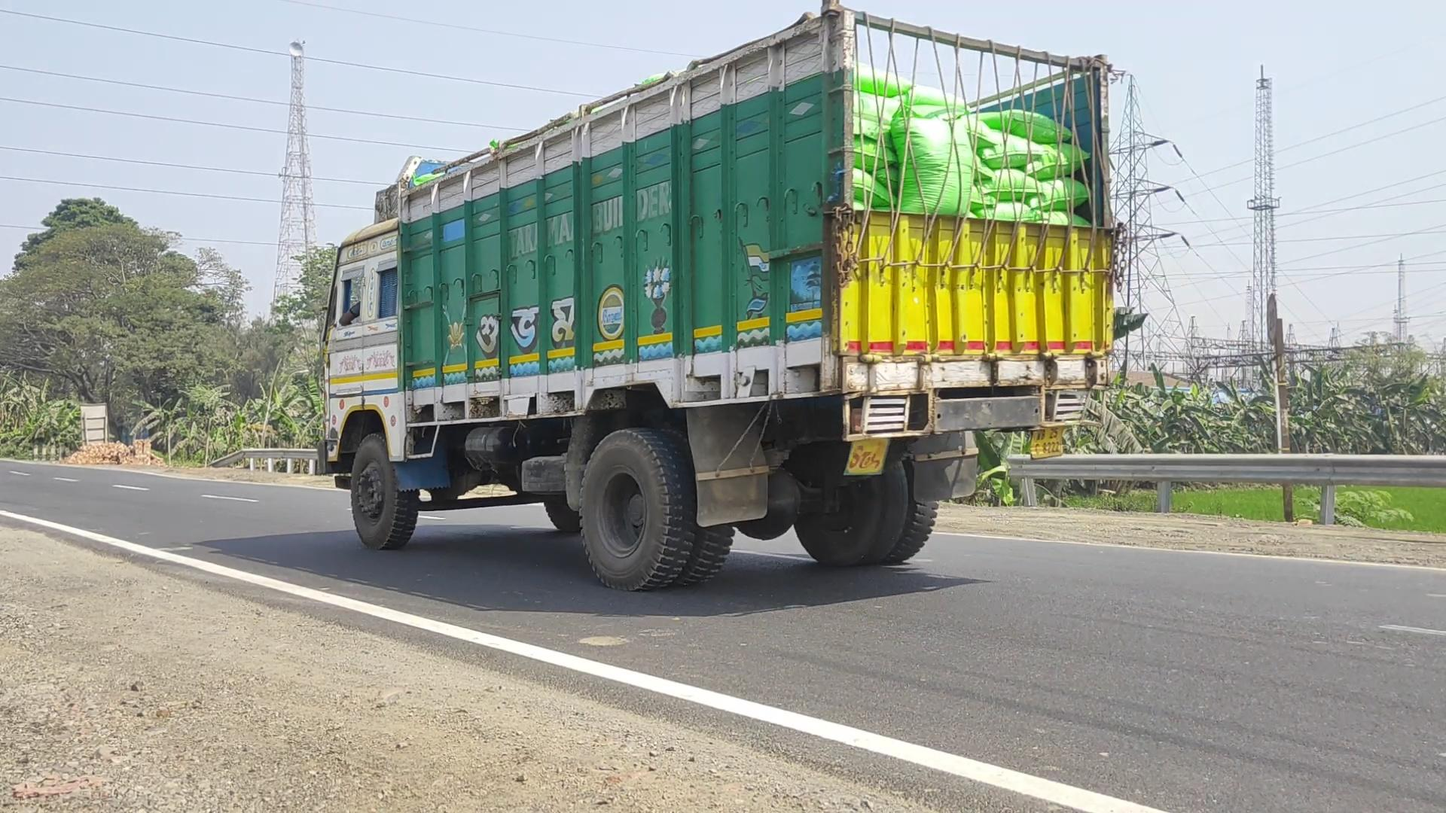truck: (319, 5, 1117, 593)
